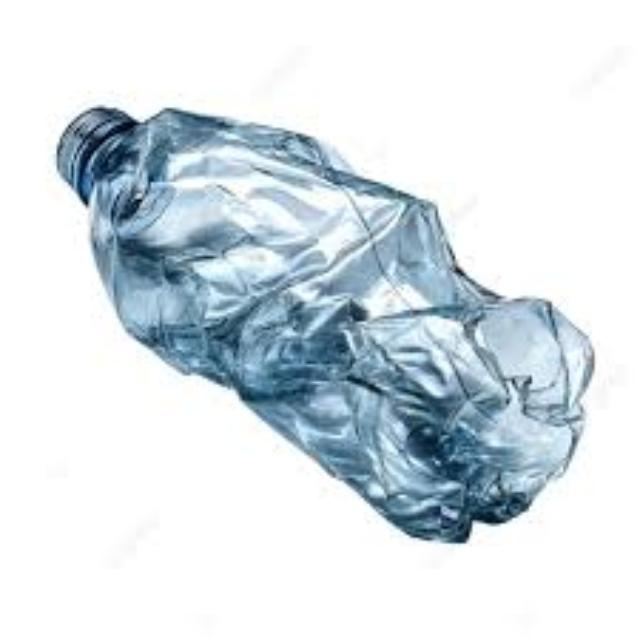Plastic: (30, 79, 608, 565)
